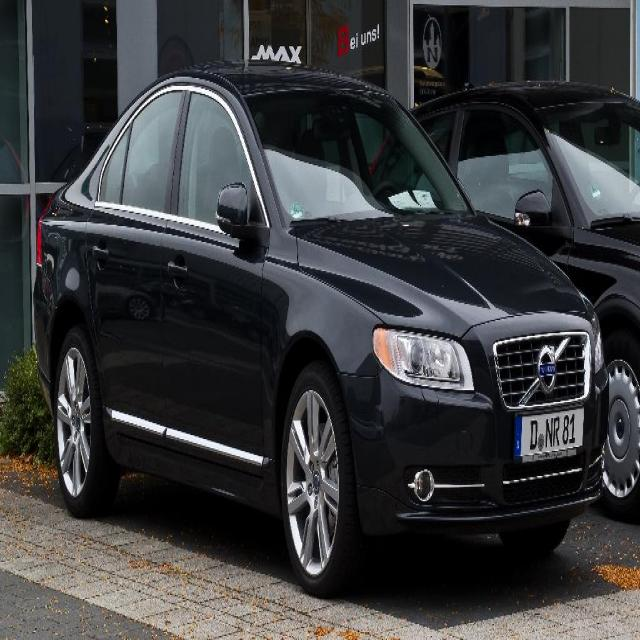other: (31, 50, 606, 614), (366, 76, 639, 518)
